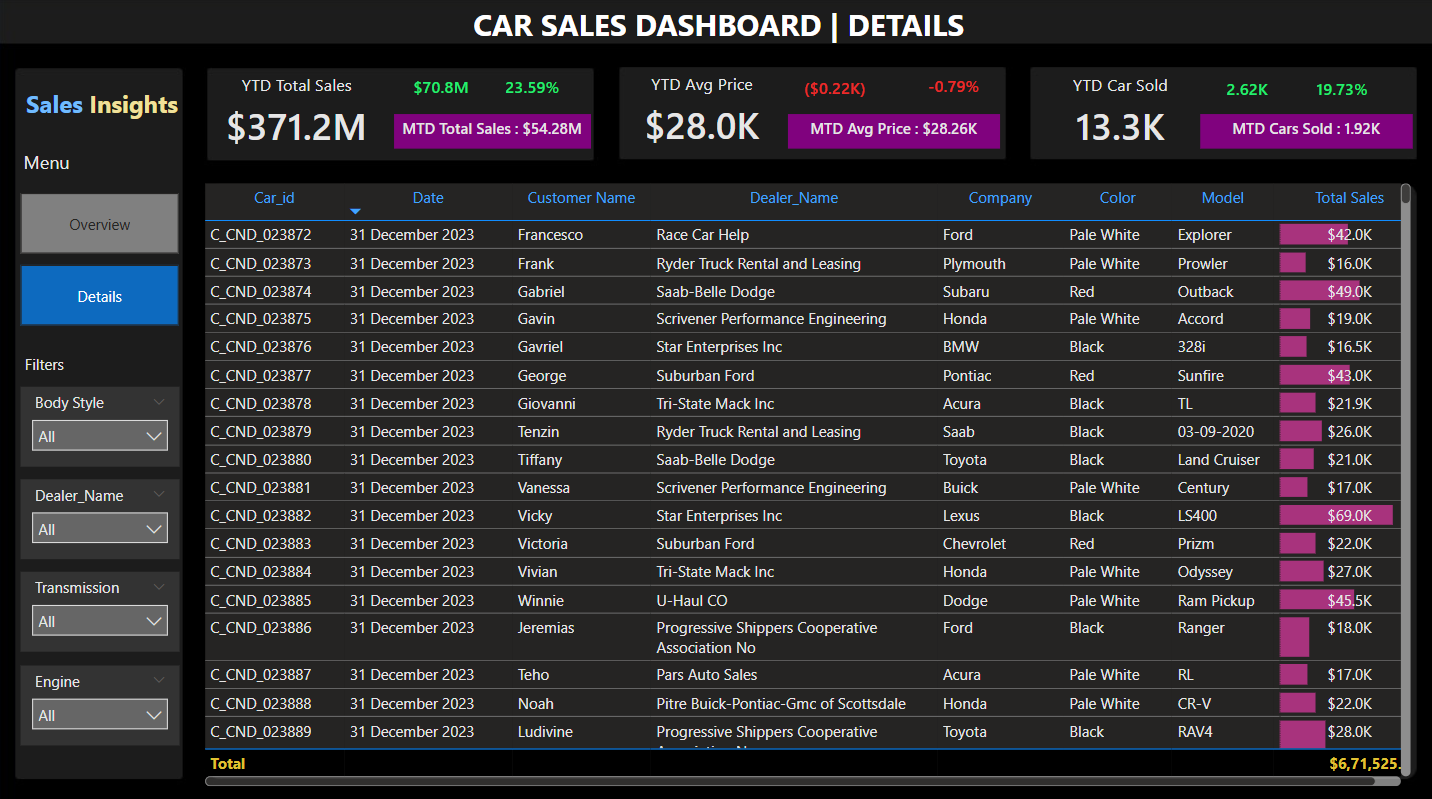

The page's visual inventory and layout, read from the dashboard file:
{"tool":"powerbi","page":{"name":"Details","canvas":[1280,720],"ordinal":1},"visuals":[{"type":"card","title":"YTD Total Sales","fields":{"Values":["car_data.YTD Total Sales"]},"box":[178.8,66.2,173.8,75],"z":0},{"type":"card","fields":{"Values":["car_data.Sales Difference"]},"box":[353,66,84,31],"z":1000},{"type":"card","fields":{"Values":["car_data.YoY Sales Growth"]},"box":[434,66,84,31],"z":2000},{"type":"card","fields":{"Values":["car_data.MTD KPI"]},"box":[352.5,103.8,175,30],"z":3000},{"type":"card","title":"YTD Avg Price","fields":{"Values":["car_data.YTD Avg Price"]},"box":[540,65.7,174.3,75.7],"z":4000},{"type":"card","fields":{"Values":["car_data.Avg Price Difference"]},"box":[703.8,66.2,83.8,31.2],"z":5000},{"type":"card","fields":{"Values":["car_data.YoY Avg Price Growth"]},"box":[808.8,65,83.8,31.2],"z":6000},{"type":"card","fields":{"Values":["car_data.MTD Avg Price KPI"]},"box":[703.8,103.8,188.8,30],"z":7000},{"type":"card","title":"YTD Car Sold","fields":{"Values":["car_data.YTD Car Sold"]},"box":[912.5,66.2,173.8,75],"z":8000},{"type":"card","fields":{"Values":["car_data.Car Sold Difference"]},"box":[1071.2,67.5,83.8,31.2],"z":9000},{"type":"card","fields":{"Values":["car_data.YoY Car Sold Growth"]},"box":[1155,67.5,83.8,31.2],"z":10000},{"type":"card","fields":{"Values":["car_data.MTD Car Sold KPI"]},"box":[1071.2,103.8,188.8,30],"z":11000},{"type":"textbox","box":[20,0,1243.3,66.7],"z":12000},{"type":"slicer","fields":{"Values":["car_data.Body Style"]},"box":[20,345.7,141.4,71.4],"z":13000},{"type":"slicer","fields":{"Values":["car_data.Dealer_Name"]},"box":[20,428.6,141.4,71.4],"z":14000},{"type":"slicer","fields":{"Values":["car_data.Transmission"]},"box":[20,511.4,141.4,71.4],"z":15000},{"type":"slicer","fields":{"Values":["car_data.Engine"]},"box":[20,594.3,141.4,71.4],"z":16000},{"type":"textbox","box":[18.6,311.4,72.9,34.3],"z":17000},{"type":"tableEx","fields":{"Values":["car_data.Car_id","car_data.Date","car_data.Customer Name","car_data.Dealer_Name","car_data.Company","car_data.Color","car_data.Model","car_data.Price ($)"]},"box":[178.3,160,1085,546.7],"z":18000},{"type":"textbox","box":[20,75,158.3,43.3],"z":19000},{"type":"textbox","box":[18.3,130,73.3,43.3],"z":20000},{"type":"pageNavigator","box":[20,173.3,141.7,118.3],"z":21000}]}

Visuals, with their boxes in screenshot pixels (x1, y1, x2, y2), scaled from the page's 1280x720 canvas onto the 1432x799 screenshot:
"YTD Total Sales" card: [left=200, top=73, right=394, bottom=157]
card - car_data.Sales Difference: [left=395, top=73, right=489, bottom=108]
card - car_data.YoY Sales Growth: [left=486, top=73, right=580, bottom=108]
card - car_data.MTD KPI: [left=394, top=115, right=590, bottom=148]
"YTD Avg Price" card: [left=604, top=73, right=799, bottom=157]
card - car_data.Avg Price Difference: [left=787, top=73, right=881, bottom=108]
card - car_data.YoY Avg Price Growth: [left=905, top=72, right=999, bottom=107]
card - car_data.MTD Avg Price KPI: [left=787, top=115, right=999, bottom=148]
"YTD Car Sold" card: [left=1021, top=73, right=1215, bottom=157]
card - car_data.Car Sold Difference: [left=1198, top=75, right=1292, bottom=110]
card - car_data.YoY Car Sold Growth: [left=1292, top=75, right=1386, bottom=110]
card - car_data.MTD Car Sold KPI: [left=1198, top=115, right=1410, bottom=148]
textbox: [left=22, top=0, right=1413, bottom=74]
slicer - car_data.Body Style: [left=22, top=384, right=181, bottom=463]
slicer - car_data.Dealer_Name: [left=22, top=476, right=181, bottom=555]
slicer - car_data.Transmission: [left=22, top=568, right=181, bottom=647]
slicer - car_data.Engine: [left=22, top=660, right=181, bottom=739]
textbox: [left=21, top=346, right=102, bottom=384]
tableEx - car_data.Car_id x car_data.Date: [left=199, top=178, right=1413, bottom=784]
textbox: [left=22, top=83, right=199, bottom=131]
textbox: [left=20, top=144, right=102, bottom=192]
pageNavigator: [left=22, top=192, right=181, bottom=324]
